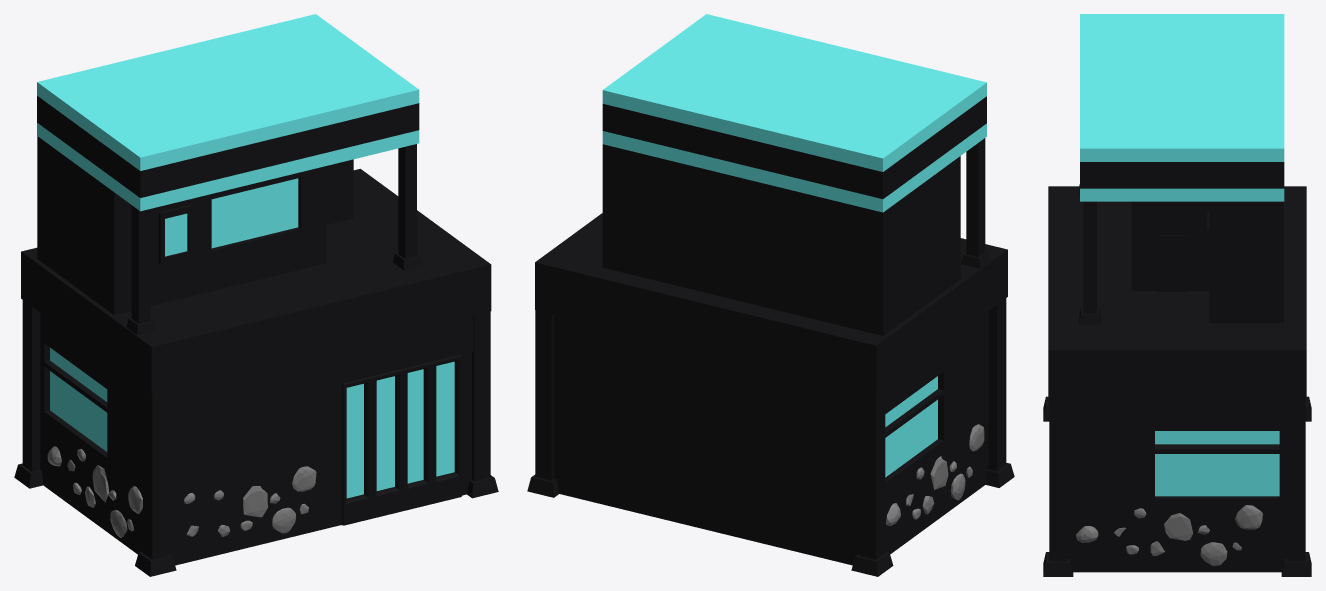
The picture shows the model from 3 angles, left to right: view 1: azimuth 30°, elevation 25°; view 2: azimuth 150°, elevation 25°; view 3: azimuth 270°, elevation 25°; orthographic projection.
Visible parts, largest first — view 1: Box016; view 2: Box016; view 3: Box016.
Boxes of the visible parts, x1=… form: Box016: x1=14, y1=14, x2=498, y2=576; Box016: x1=527, y1=14, x2=1014, y2=576; Box016: x1=1043, y1=14, x2=1311, y2=576.
Bounding box in the file's own units: 64.38 × 71.21 × 43.45.
